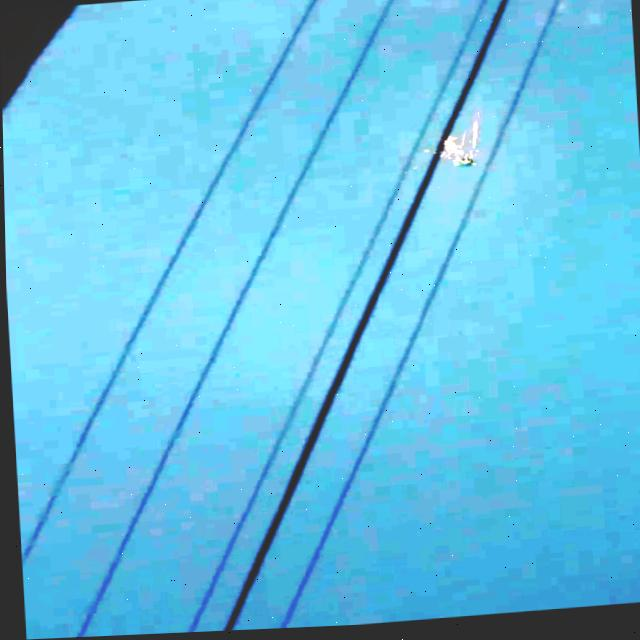obstruction: (439, 126, 475, 170)
wires: (69, 0, 395, 638), (271, 0, 564, 631), (218, 0, 509, 633), (18, 0, 317, 562), (183, 55, 461, 634), (72, 471, 158, 638), (349, 0, 395, 83)
